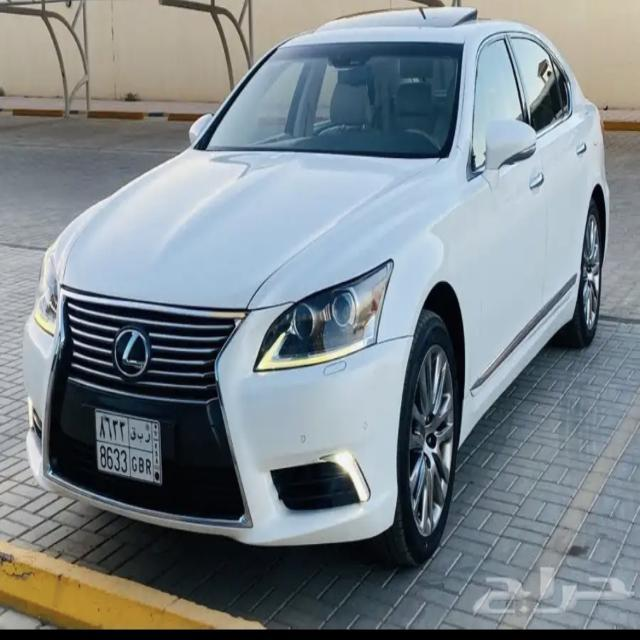license_plate: (92, 404, 162, 488)
